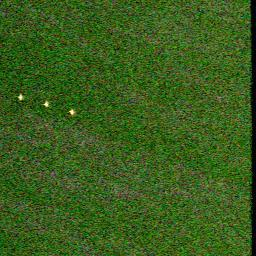Ship: (65, 107, 77, 117), (41, 99, 53, 108), (16, 92, 25, 103)
